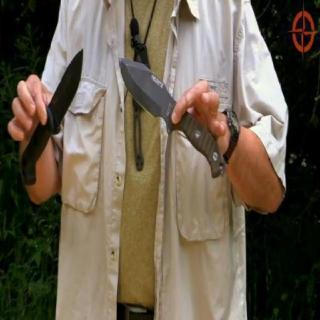knife: (116, 51, 226, 183), (19, 43, 86, 187)
